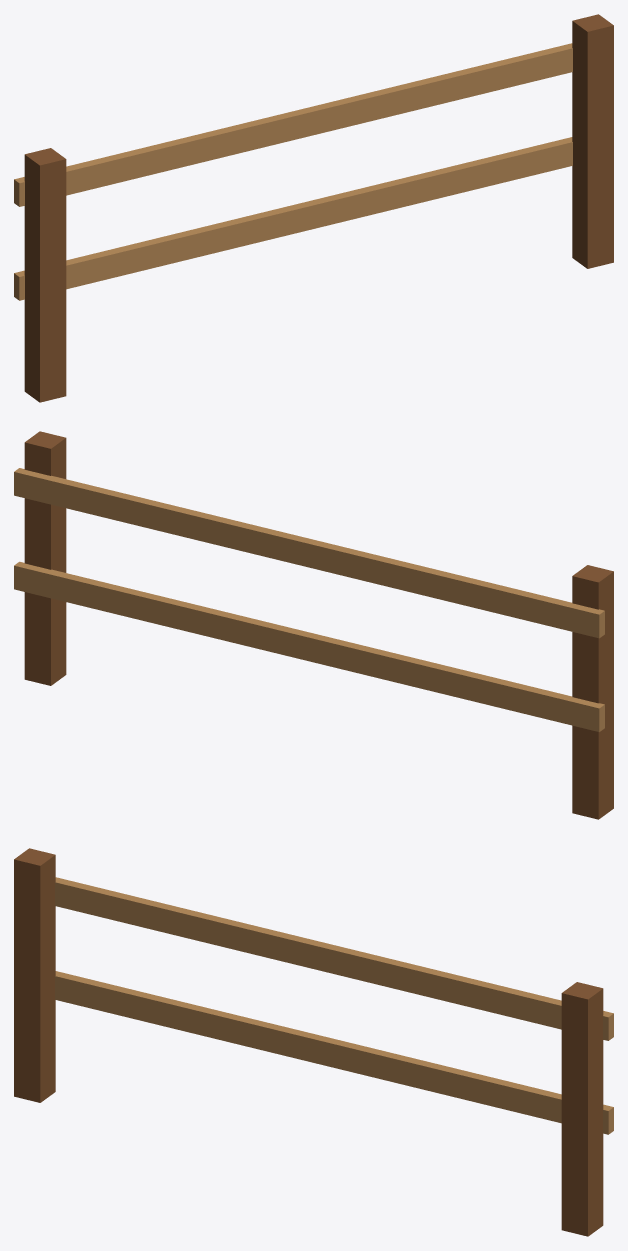
Rendered from Dorf_Koppelzaun.fbx.
3 renders of one model, top to bottom at view 1: azimuth 30°, elevation 25°; view 2: azimuth 150°, elevation 25°; view 3: azimuth 330°, elevation 25°, orthographic.
Visible parts, largest first — view 1: Dorf_Koppelzaun; view 2: Dorf_Koppelzaun; view 3: Dorf_Koppelzaun.
Boxes of the visible parts, box(x1,y1,x2,y2) form: Dorf_Koppelzaun: box(14, 14, 613, 402); Dorf_Koppelzaun: box(14, 431, 613, 819); Dorf_Koppelzaun: box(14, 848, 613, 1236).
Size of the model in its own units: 3.1 by 1.2 by 0.185.
